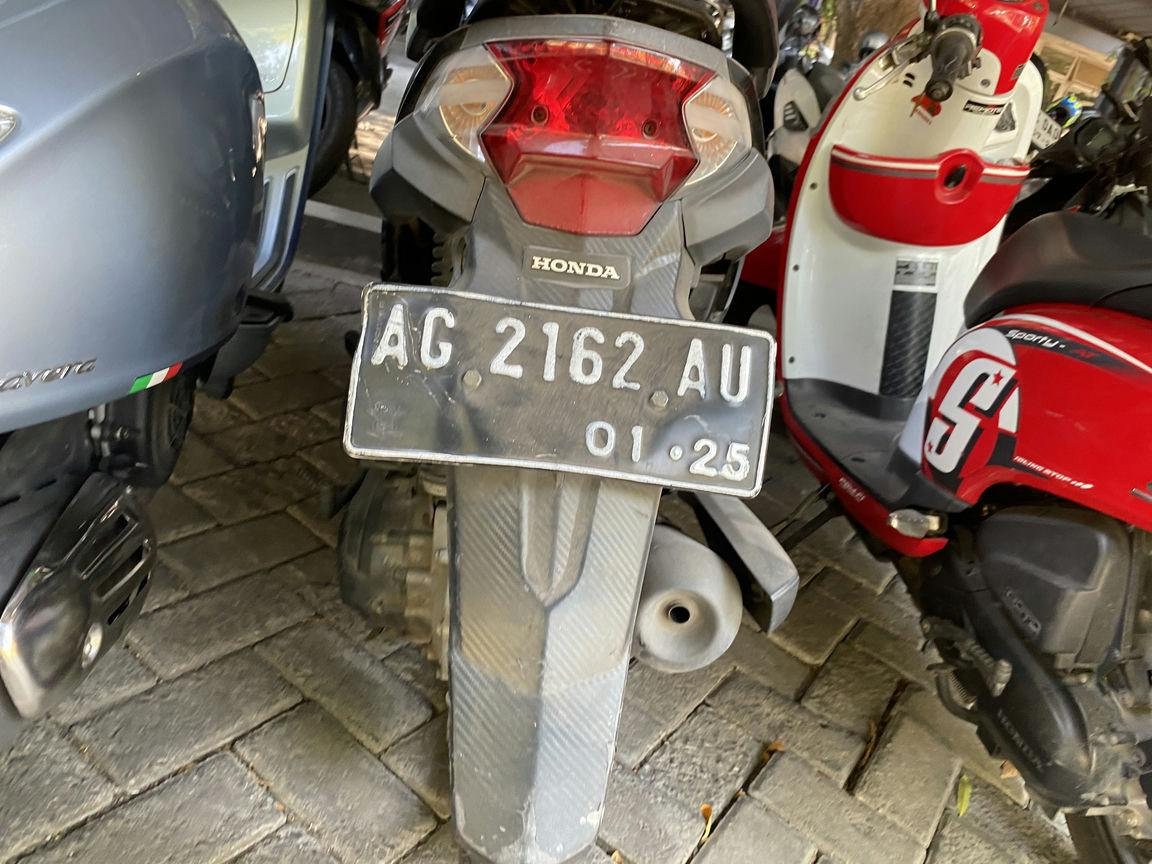plat: (344, 284, 776, 497)
